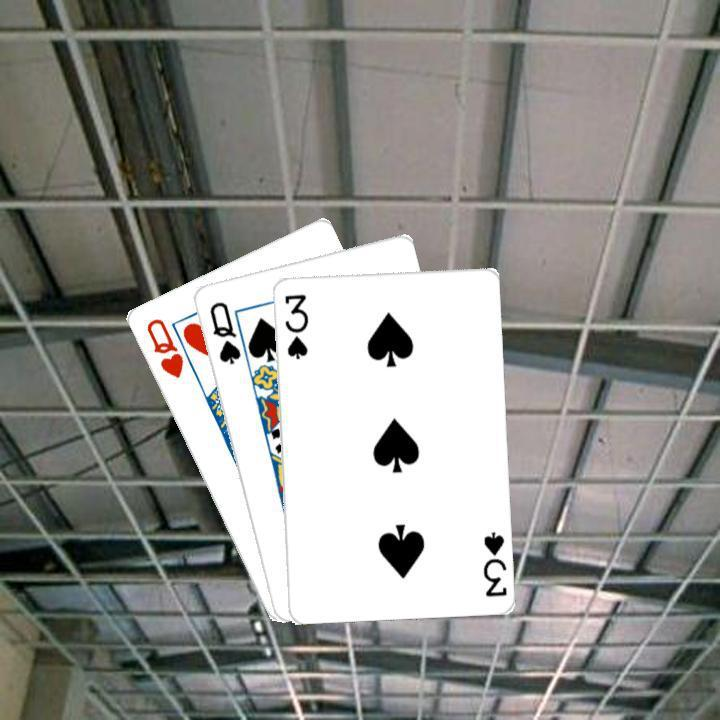3: (279, 289, 310, 361), (478, 527, 508, 599)
Q: (141, 313, 185, 380), (204, 297, 242, 367)
